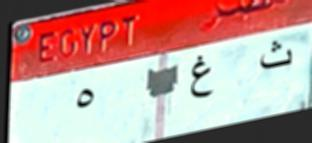5: (71, 86, 100, 111)
ghayn: (185, 52, 216, 103)
thaa: (255, 37, 299, 73)
